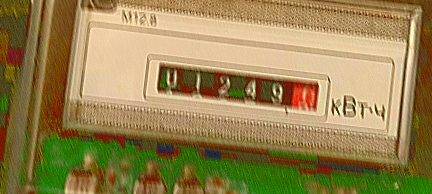0: (162, 66, 178, 88)
1: (188, 70, 203, 92)
2: (213, 74, 231, 97)
4: (242, 77, 257, 99)
7: (296, 81, 311, 102)
9: (267, 82, 283, 105)
screen: (138, 51, 333, 123)
